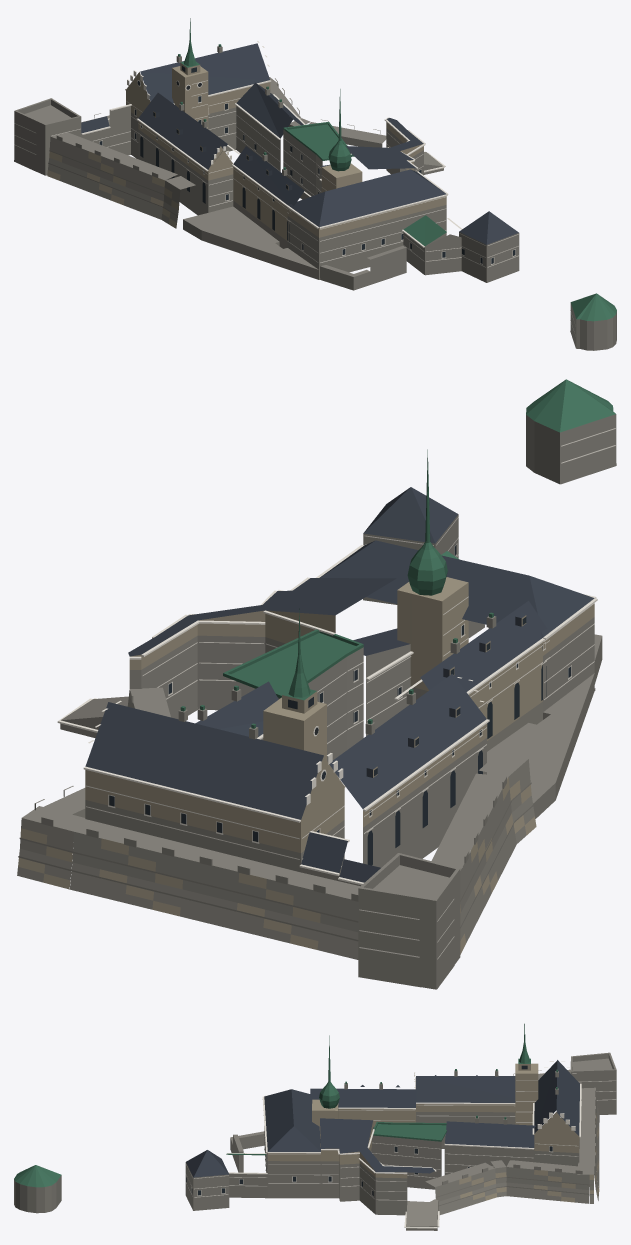
File: akershus-fortress-far.glb
3 renders of one model, top to bottom at view 1: azimuth 30°, elevation 25°; view 2: azimuth 150°, elevation 25°; view 3: azimuth 270°, elevation 25°, orthographic. The views are drawn at different scales.
Visible parts, largest first — view 1: akershus-fortress-0-stone, akershus-fortress-0-slate, akershus-fortress-0-render, akershus-fortress-0-trim, akershus-fortress-0-copper, akershus-fortress-0-glow; view 2: akershus-fortress-0-stone, akershus-fortress-0-slate, akershus-fortress-0-render, akershus-fortress-0-copper, akershus-fortress-0-trim, akershus-fortress-0-glow, akershus-fortress-0-glass; view 3: akershus-fortress-0-stone, akershus-fortress-0-slate, akershus-fortress-0-render, akershus-fortress-0-trim, akershus-fortress-0-copper.
Part boxes in pixels (x1=…): akershus-fortress-0-stone: x1=14, y1=46, x2=616, y2=350; akershus-fortress-0-slate: x1=81, y1=43, x2=518, y2=244; akershus-fortress-0-render: x1=47, y1=63, x2=446, y2=240; akershus-fortress-0-trim: x1=14, y1=41, x2=574, y2=331; akershus-fortress-0-copper: x1=178, y1=18, x2=616, y2=321; akershus-fortress-0-glow: x1=99, y1=96, x2=515, y2=263; akershus-fortress-0-stone: x1=17, y1=414, x2=616, y2=989; akershus-fortress-0-slate: x1=85, y1=487, x2=594, y2=882; akershus-fortress-0-render: x1=18, y1=577, x2=594, y2=954; akershus-fortress-0-copper: x1=180, y1=379, x2=615, y2=728; akershus-fortress-0-trim: x1=57, y1=428, x2=615, y2=959; akershus-fortress-0-glow: x1=109, y1=544, x2=546, y2=865; akershus-fortress-0-glass: x1=145, y1=625, x2=570, y2=832; akershus-fortress-0-stone: x1=14, y1=1052, x2=616, y2=1230; akershus-fortress-0-slate: x1=186, y1=1060, x2=579, y2=1177; akershus-fortress-0-render: x1=267, y1=1063, x2=599, y2=1202; akershus-fortress-0-trim: x1=186, y1=1061, x2=616, y2=1228; akershus-fortress-0-copper: x1=14, y1=1023, x2=557, y2=1187.
Bounding box in the file's own units: 78.09 × 36 × 148.
